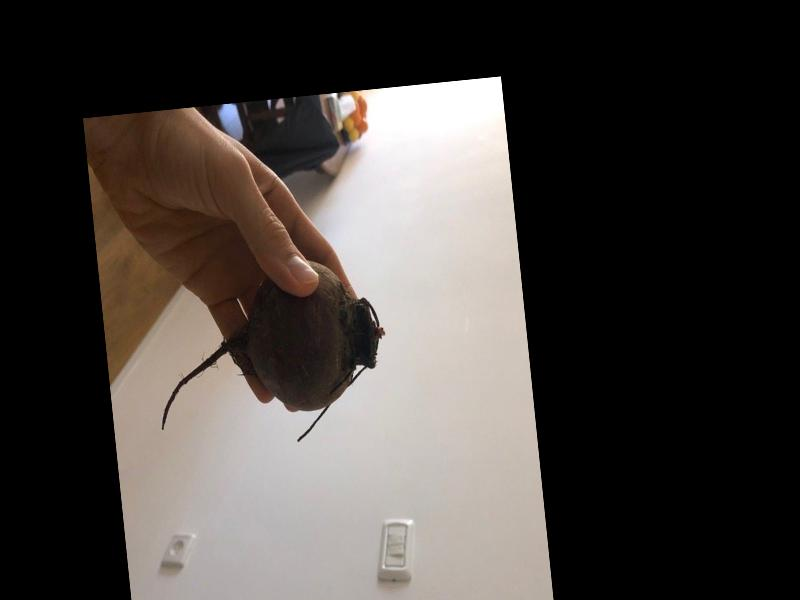Beet: (146, 252, 394, 457)
